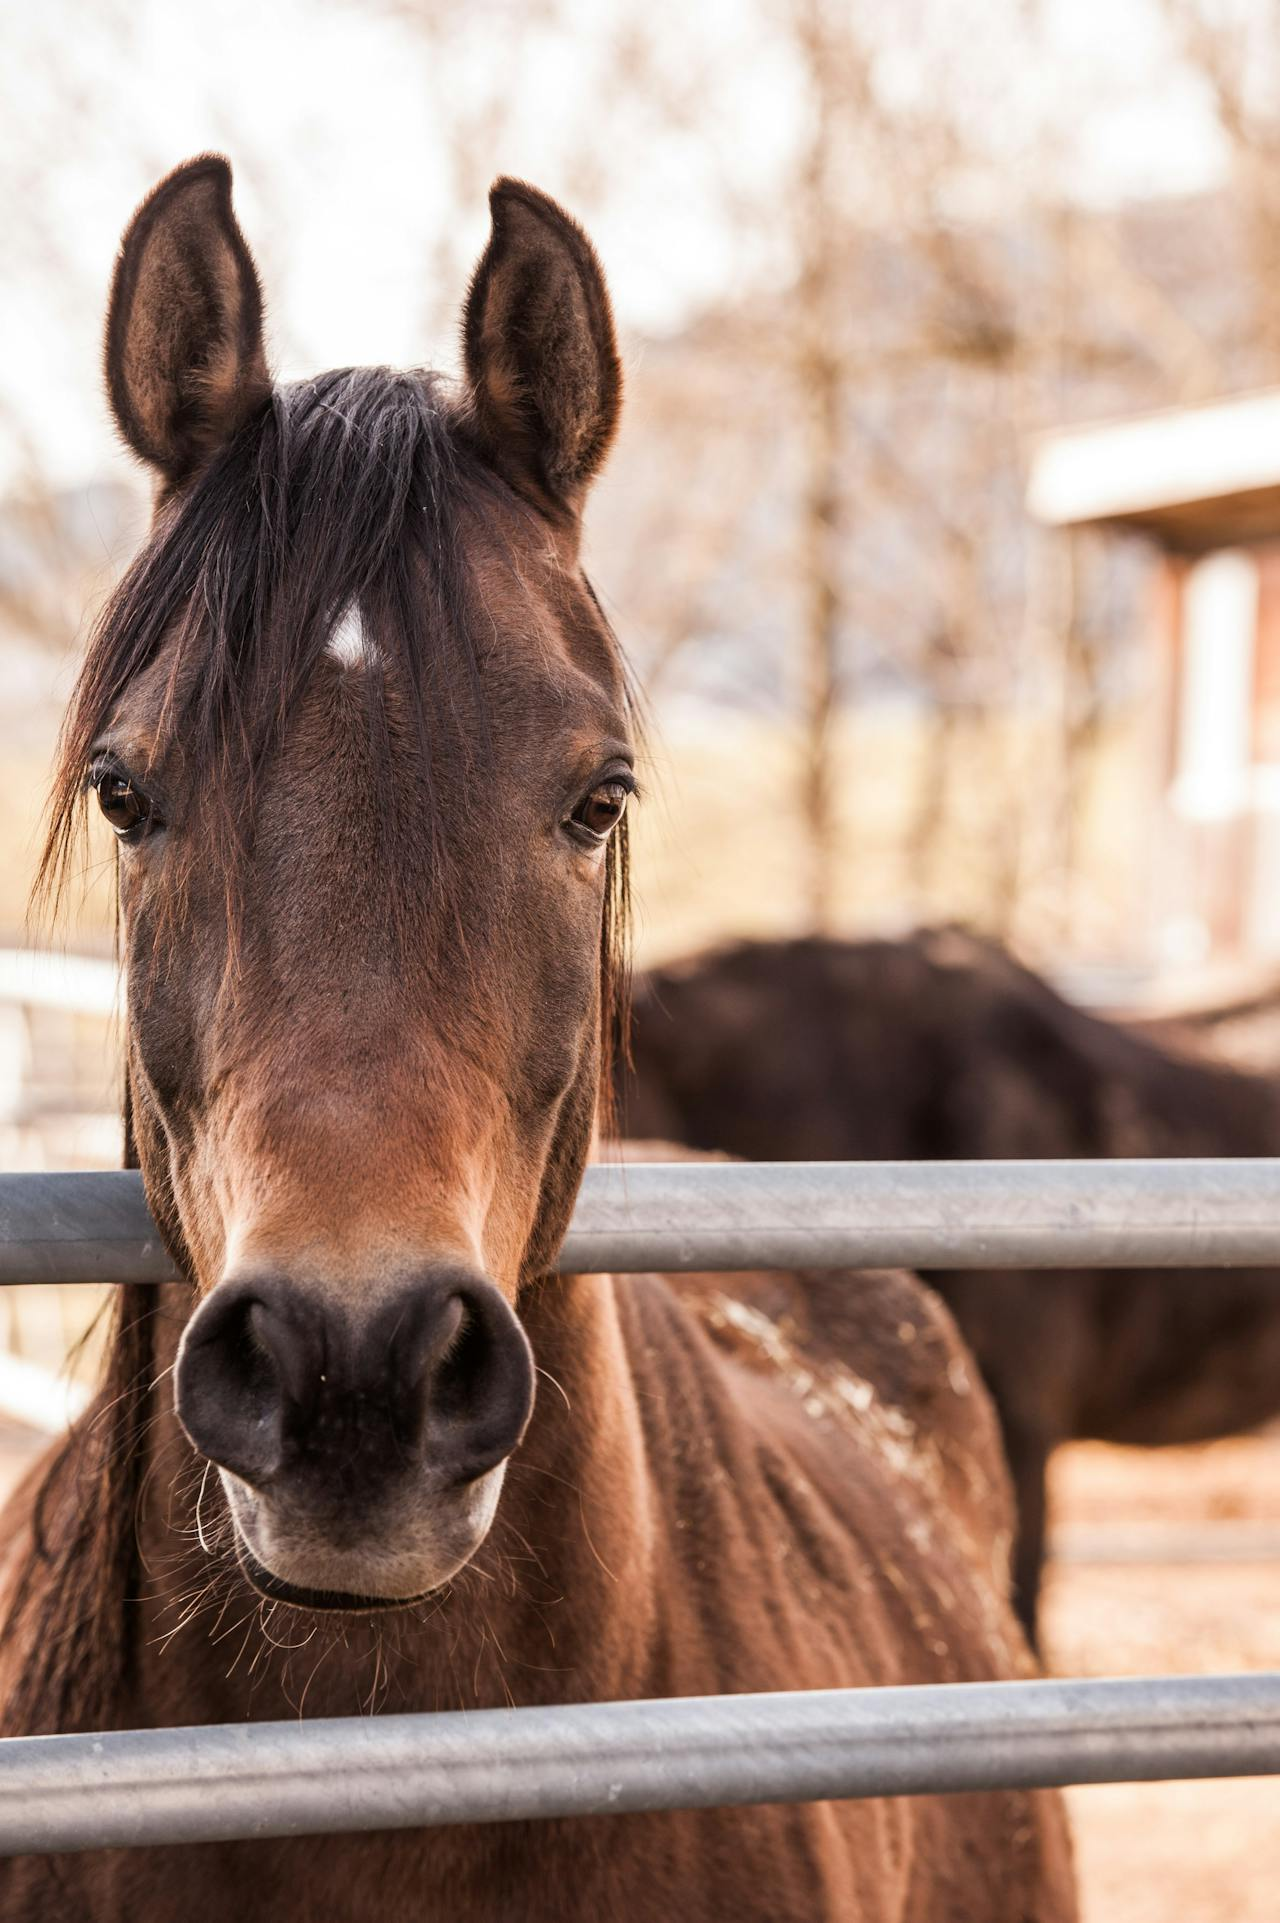horse: (37, 99, 733, 1672)
